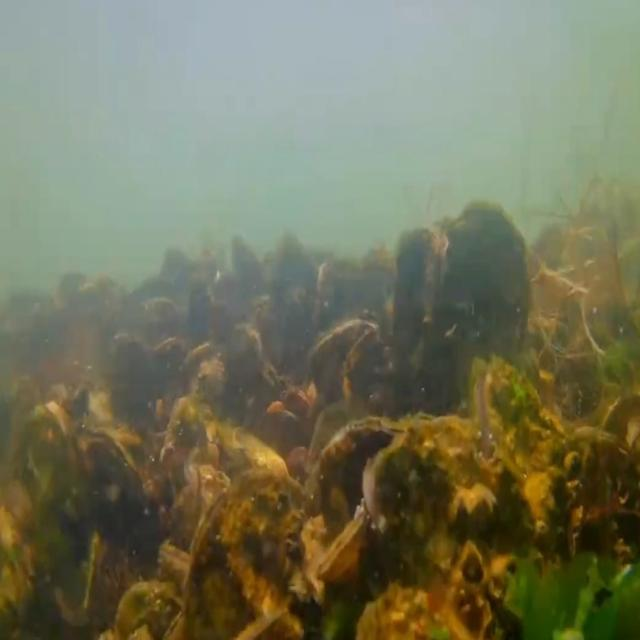Oyster-Closed: (307, 410, 434, 640), (83, 428, 167, 640), (558, 426, 639, 640), (317, 506, 370, 580), (159, 538, 192, 592)
Oyster-Indeterminate: (363, 416, 538, 640), (0, 402, 96, 640), (182, 471, 316, 640), (440, 199, 531, 421), (391, 226, 449, 400), (162, 395, 208, 486), (230, 424, 288, 473)
Oyster-Open: (466, 353, 572, 640), (309, 315, 378, 407)
